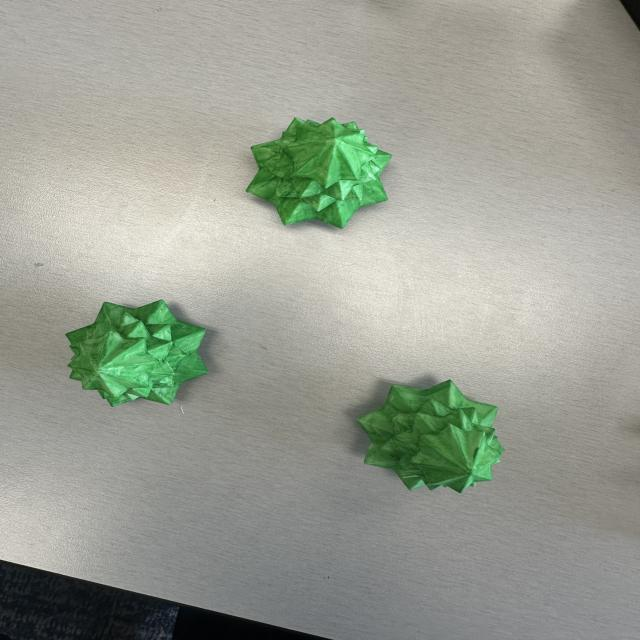tree: (356, 380, 504, 494), (247, 116, 393, 229), (64, 300, 208, 406)
